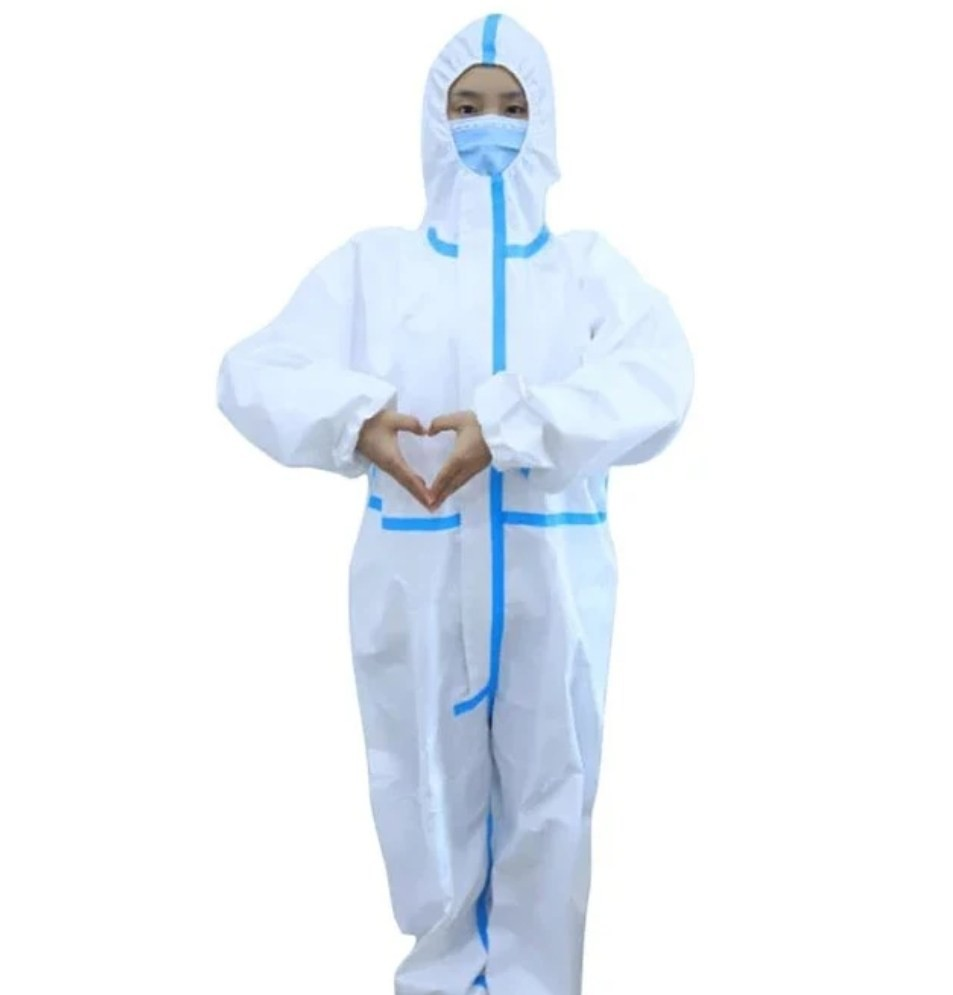Coverall: (216, 13, 699, 995)
with_mask: (453, 92, 528, 175)
